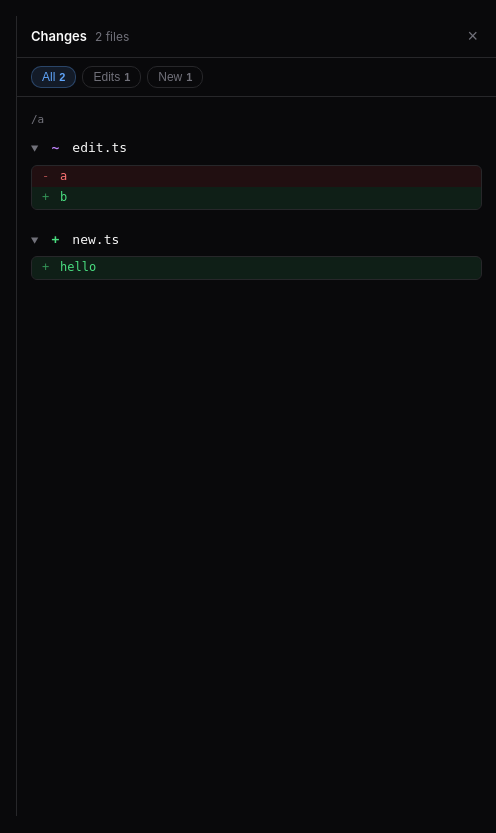
it: ChangesPanel › clicking Edits filter shows only edit files
This screenshot has width=496, height=833.
What coordinates should you click on to do the following:
click the button with class "chat-changes-chip" showing "Edits 1"
I would click on:
 (112, 77)
Its box is [82,66,141,88].
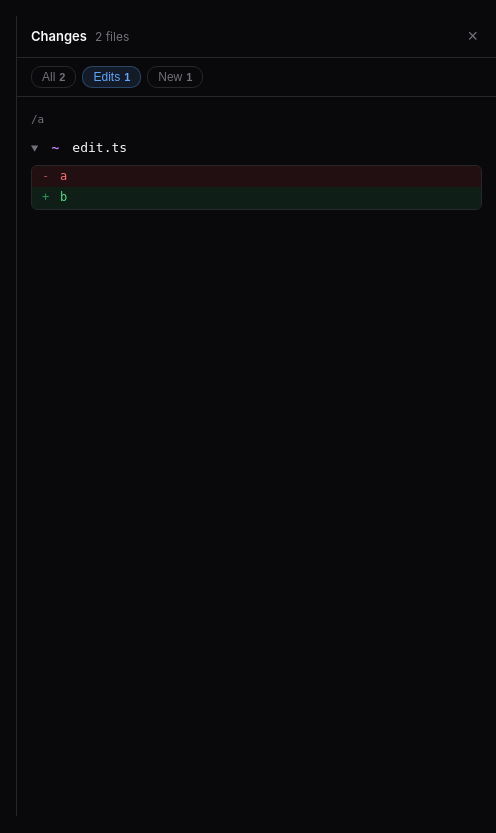
Check: the text with class "chat-changes-fname" reads "edit.ts", box [72,140,127,155]
Check: the number of elements with class "chat-changes-file-block" is 1, box [17,132,495,222]
